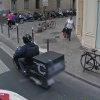Motorcycle: (8, 43, 65, 86)
